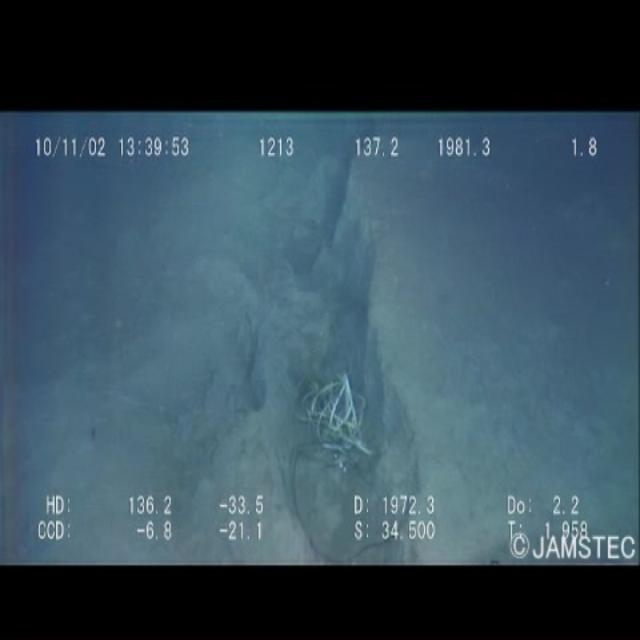Rope: (297, 347, 384, 479)
